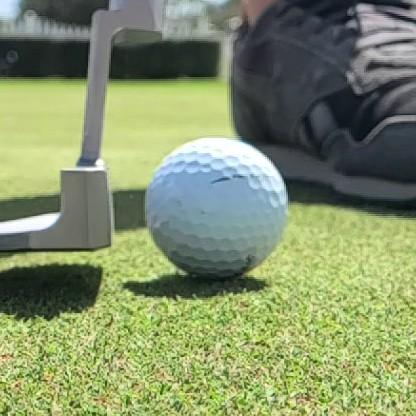golfball: (146, 137, 287, 277)
